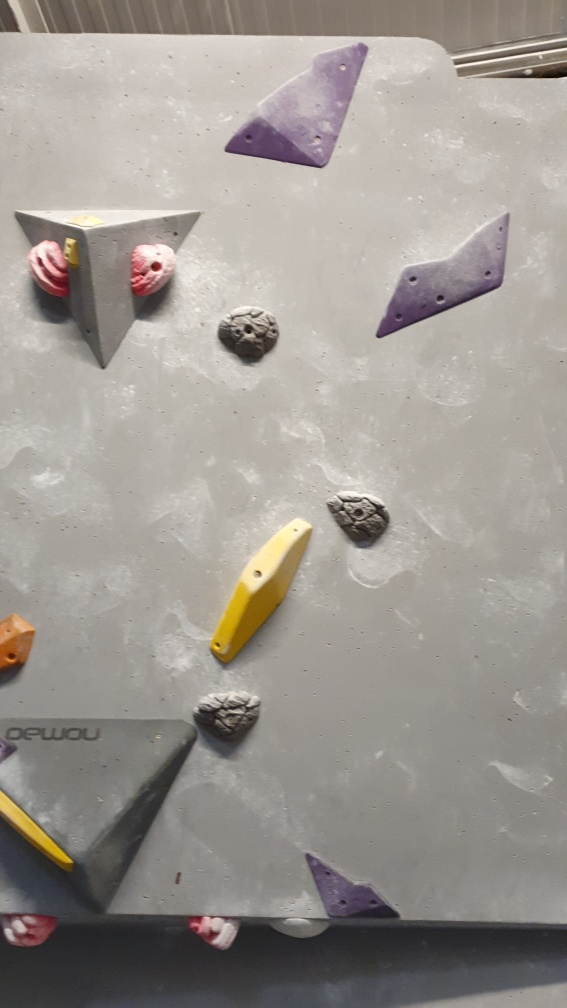Jug: (326, 490, 394, 550), (195, 691, 266, 748), (216, 307, 284, 362), (127, 233, 182, 298), (24, 231, 72, 304), (1, 912, 64, 958), (191, 914, 245, 953)
Pinch: (205, 514, 312, 668)
